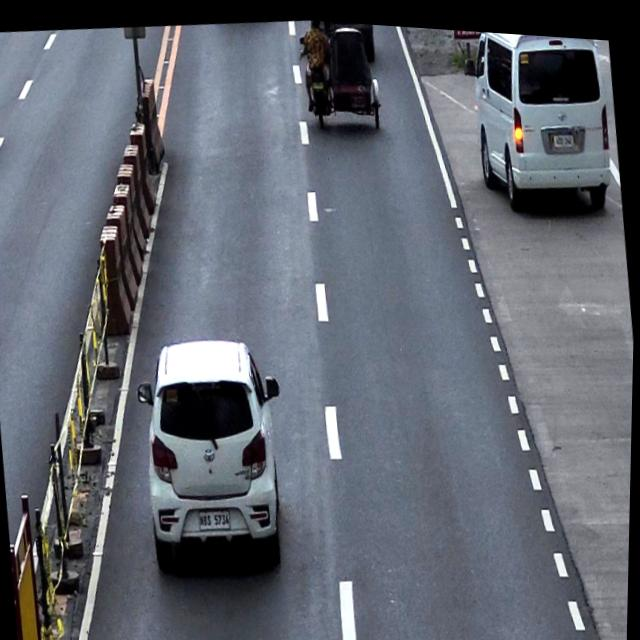Car: (130, 324, 300, 576), (459, 24, 618, 213)
License-Plate: (198, 502, 235, 530), (550, 122, 576, 142), (310, 74, 325, 86)
Tricycle: (295, 16, 385, 131)
